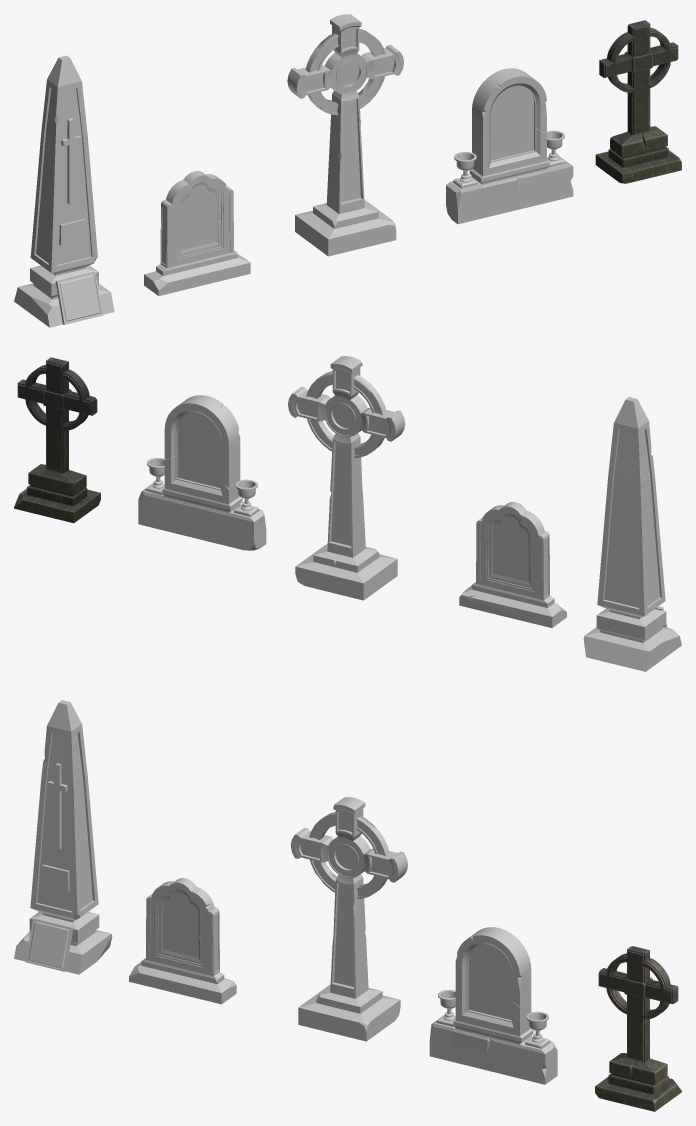
File: grave_stone_pack.fbx
3 views of the same model, one above another, from view 1: azimuth 30°, elevation 25°; view 2: azimuth 150°, elevation 25°; view 3: azimuth 330°, elevation 25° (orthographic).
Parts seen in each view (by area): view 1: grave_stone_05_Low.001, grave_stone_03_Low.001, grave_stone_02_Low.001, grave_stone_04_Low.001, grave_stone_01_Lowpoly.001; view 2: grave_stone_05_Low.001, grave_stone_03_Low.001, grave_stone_02_Low.001, grave_stone_04_Low.001, grave_stone_01_Lowpoly.001; view 3: grave_stone_05_Low.001, grave_stone_03_Low.001, grave_stone_02_Low.001, grave_stone_04_Low.001, grave_stone_01_Lowpoly.001.
Boxes of the visible parts, box(x1,y1,x2,y2) form: grave_stone_05_Low.001: box(14, 55, 114, 327); grave_stone_03_Low.001: box(287, 14, 403, 256); grave_stone_02_Low.001: box(446, 68, 573, 224); grave_stone_04_Low.001: box(144, 171, 250, 295); grave_stone_01_Lowpoly.001: box(595, 20, 681, 183); grave_stone_05_Low.001: box(583, 397, 681, 671); grave_stone_03_Low.001: box(288, 356, 405, 600); grave_stone_02_Low.001: box(138, 395, 266, 550); grave_stone_04_Low.001: box(459, 502, 566, 627); grave_stone_01_Lowpoly.001: box(14, 357, 100, 523); grave_stone_05_Low.001: box(14, 700, 112, 974); grave_stone_03_Low.001: box(290, 797, 407, 1041); grave_stone_02_Low.001: box(429, 927, 557, 1084); grave_stone_04_Low.001: box(129, 878, 236, 1004); grave_stone_01_Lowpoly.001: box(595, 946, 681, 1111).
Bounding box in the file's own units: 5.9 × 2.19 × 0.5986.
